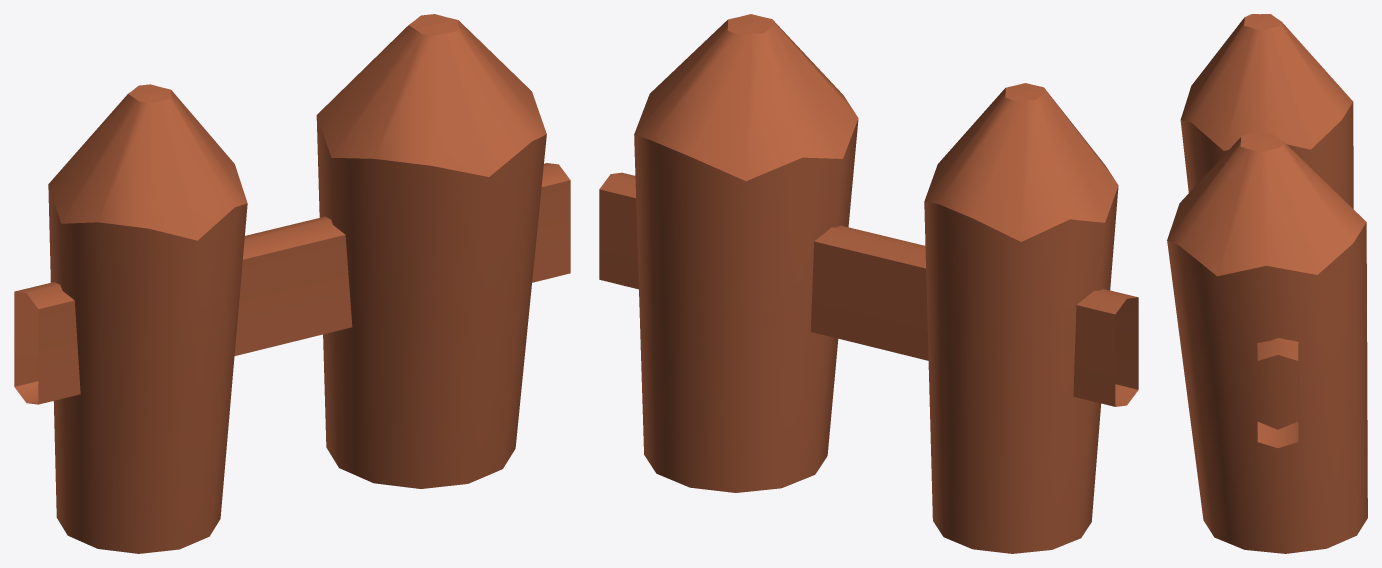
The model's file is Border.fbx.
3 views of the same model, side by side, from view 1: azimuth 30°, elevation 25°; view 2: azimuth 150°, elevation 25°; view 3: azimuth 270°, elevation 25° (orthographic). The views are drawn at different scales.
Visible parts, largest first — view 1: Border; view 2: Border; view 3: Border.
Boxes of the visible parts, <box> form: Border: <box>14,14,570,553</box>; Border: <box>599,14,1138,553</box>; Border: <box>1167,14,1367,553</box>.
Bounding box in the file's own units: 102 × 79.43 × 38.16.
